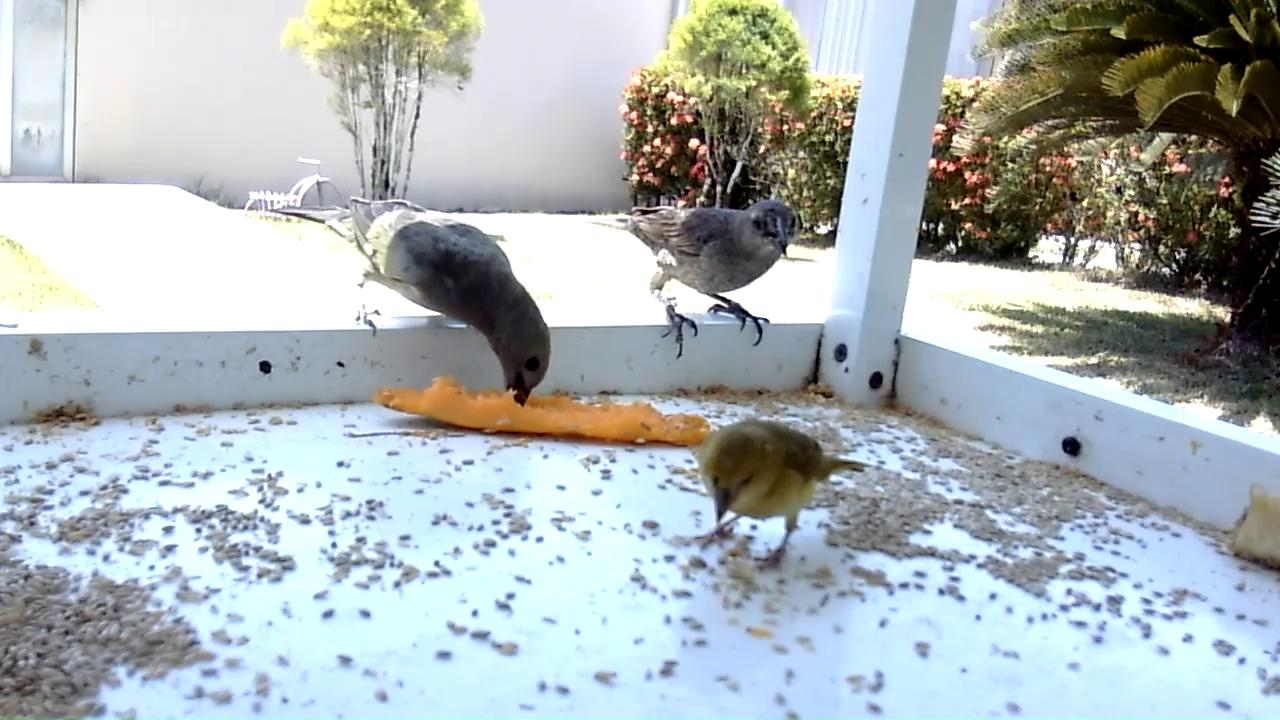canario_do_amazonas: (686, 418, 876, 577)
chupim: (588, 201, 801, 363)
sanhaco_do_coqueiro: (268, 195, 555, 411)
